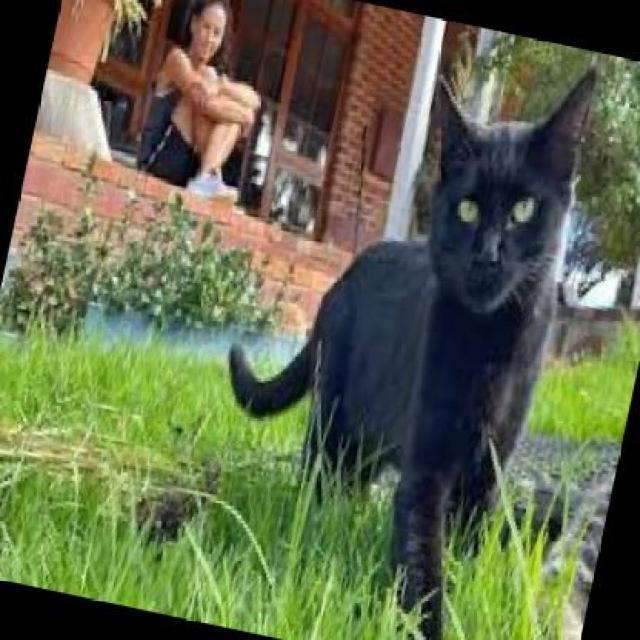animals: (174, 1, 623, 638)
